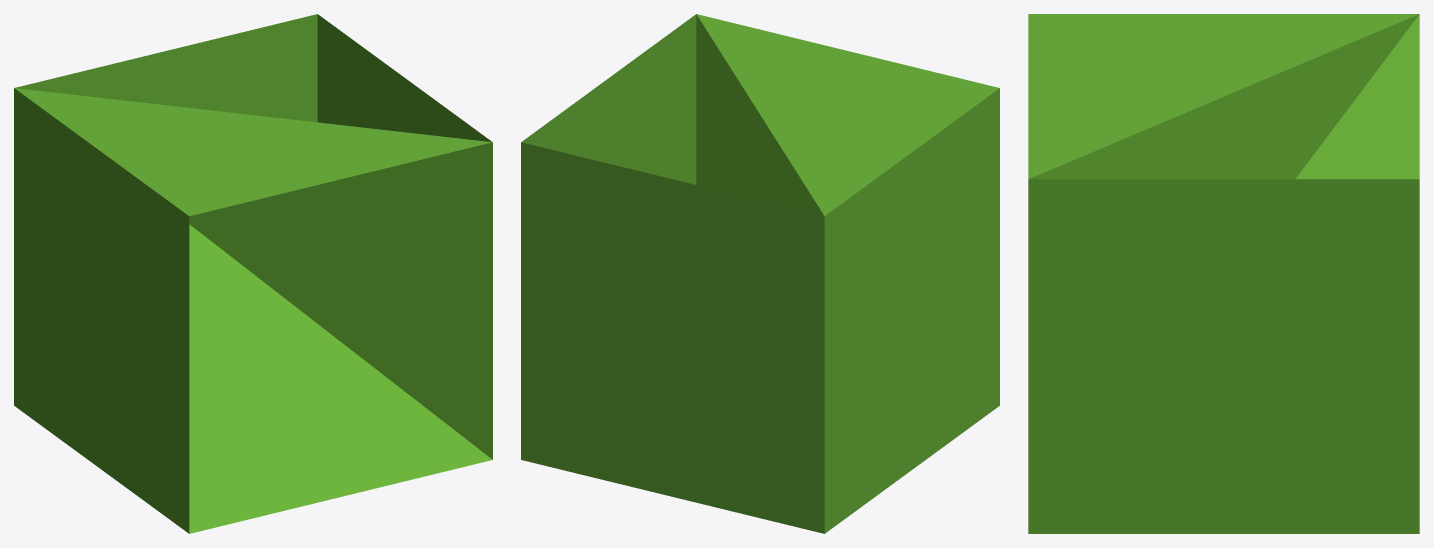
Rendered from Wavefront.obj.
3 views of the same model, side by side, from view 1: azimuth 30°, elevation 25°; view 2: azimuth 150°, elevation 25°; view 3: azimuth 270°, elevation 25° (orthographic). The views are drawn at different scales.
Visible parts, largest first — view 1: obj33; view 2: obj33; view 3: obj33.
Boxes of the visible parts, box(x1,y1,x2,y2) form: obj33: box(14, 14, 492, 533); obj33: box(521, 14, 999, 533); obj33: box(1028, 14, 1419, 533).
Bounding box in the file's own units: 100 × 100 × 100.
